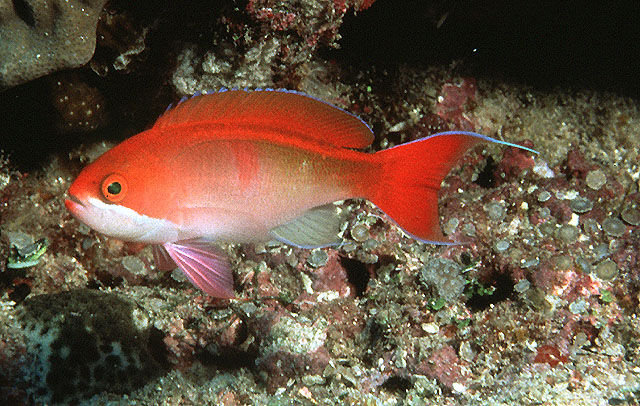fish: (65, 88, 539, 299)
